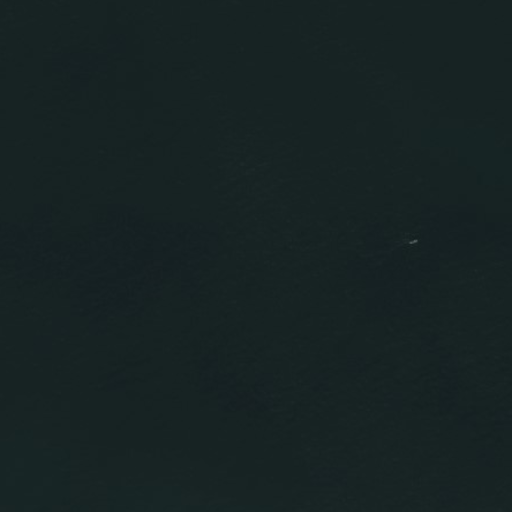ship: (405, 237, 420, 248)
